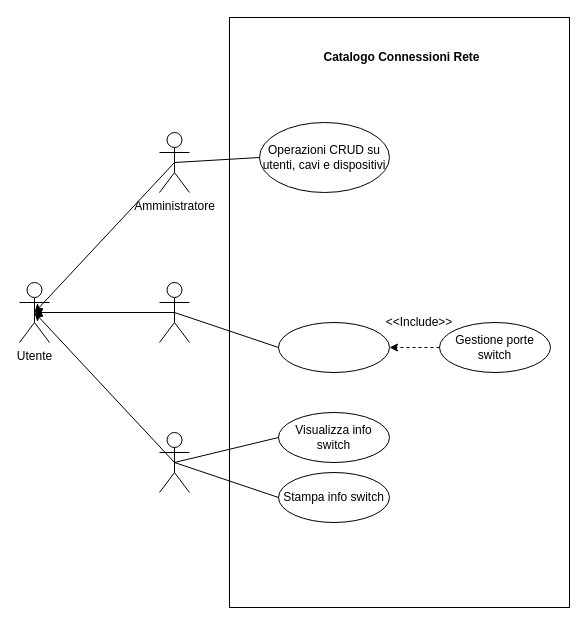
Image size: 587x625. Some labels were removed from this diagram. Each missing label, with the centre of its shape:
Operatore: point 174,312
Operazioni CRUD su switch: point 334,347
Viewer: point 174,462
